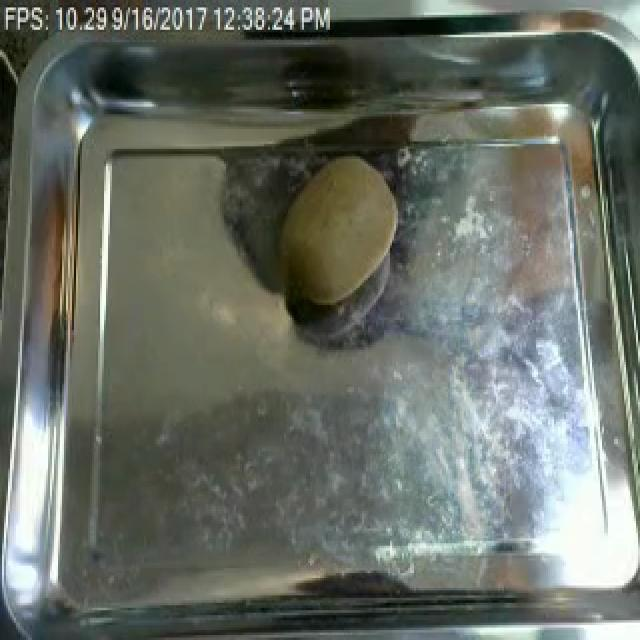Fruit: (268, 144, 412, 312)
